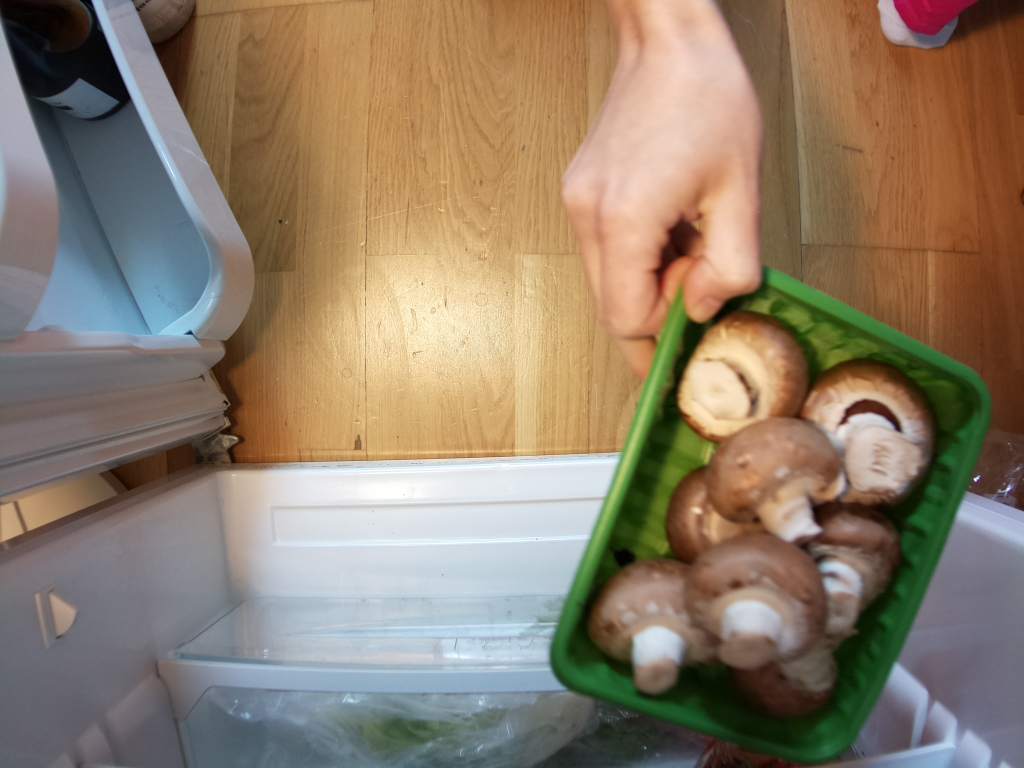mushrooms: (550, 256, 990, 744)
